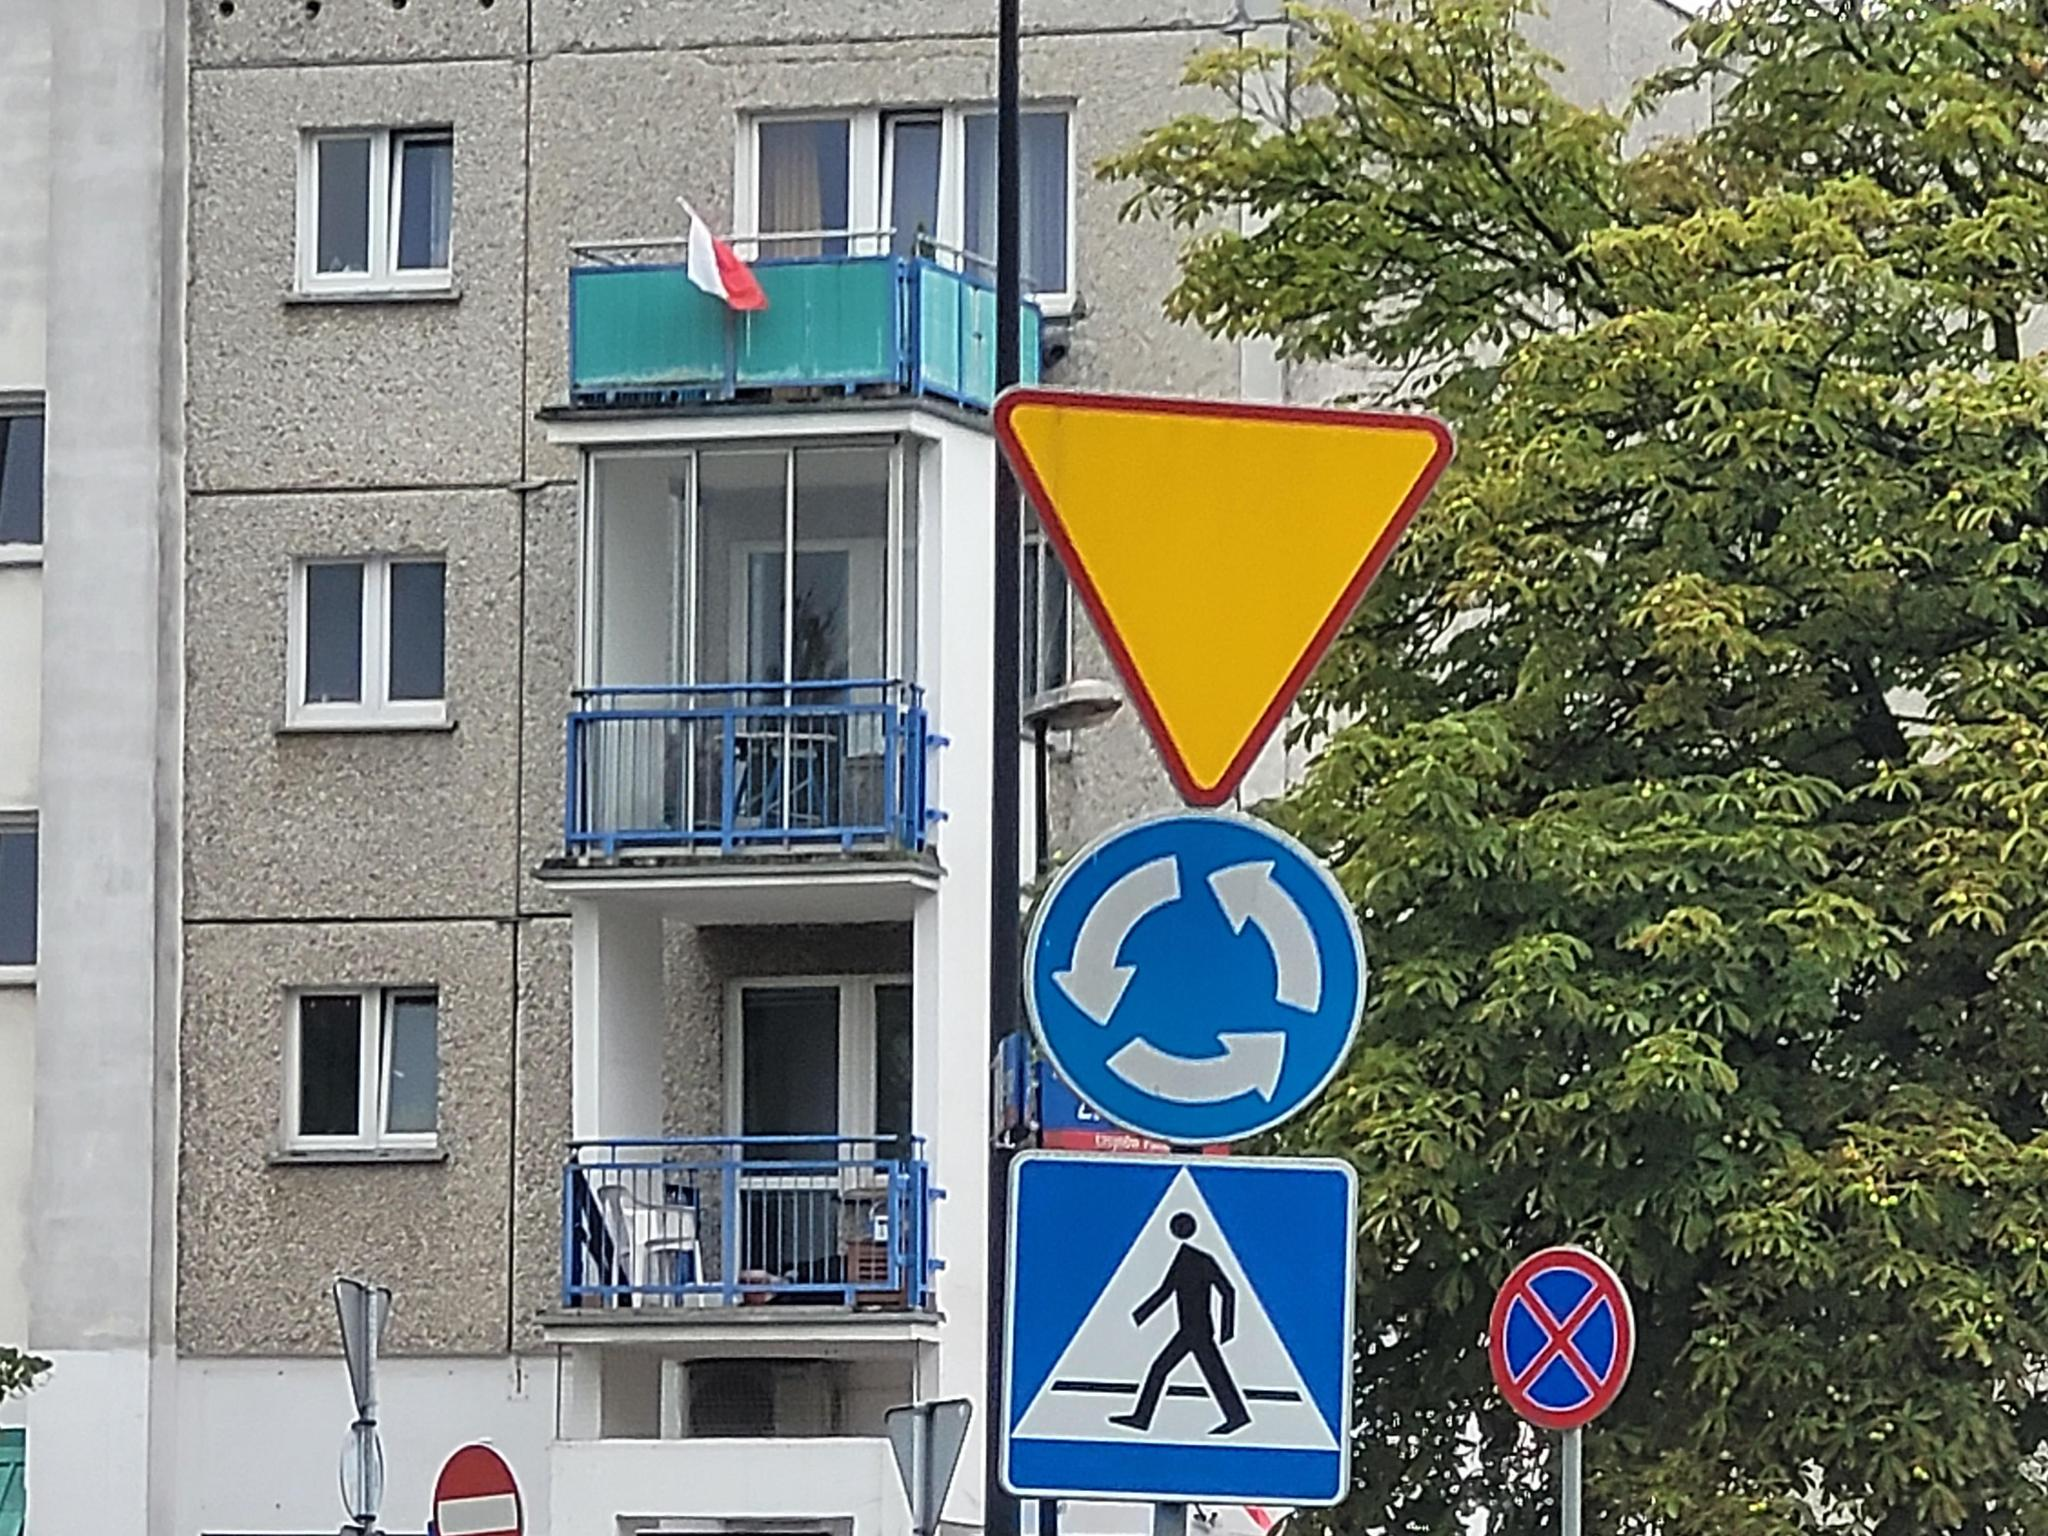information: (1016, 1155, 1345, 1499)
mandatory: (1019, 808, 1369, 1144)
prohibitory: (1485, 1244, 1638, 1431), (429, 1442, 522, 1536)
warning: (990, 384, 1458, 808)
